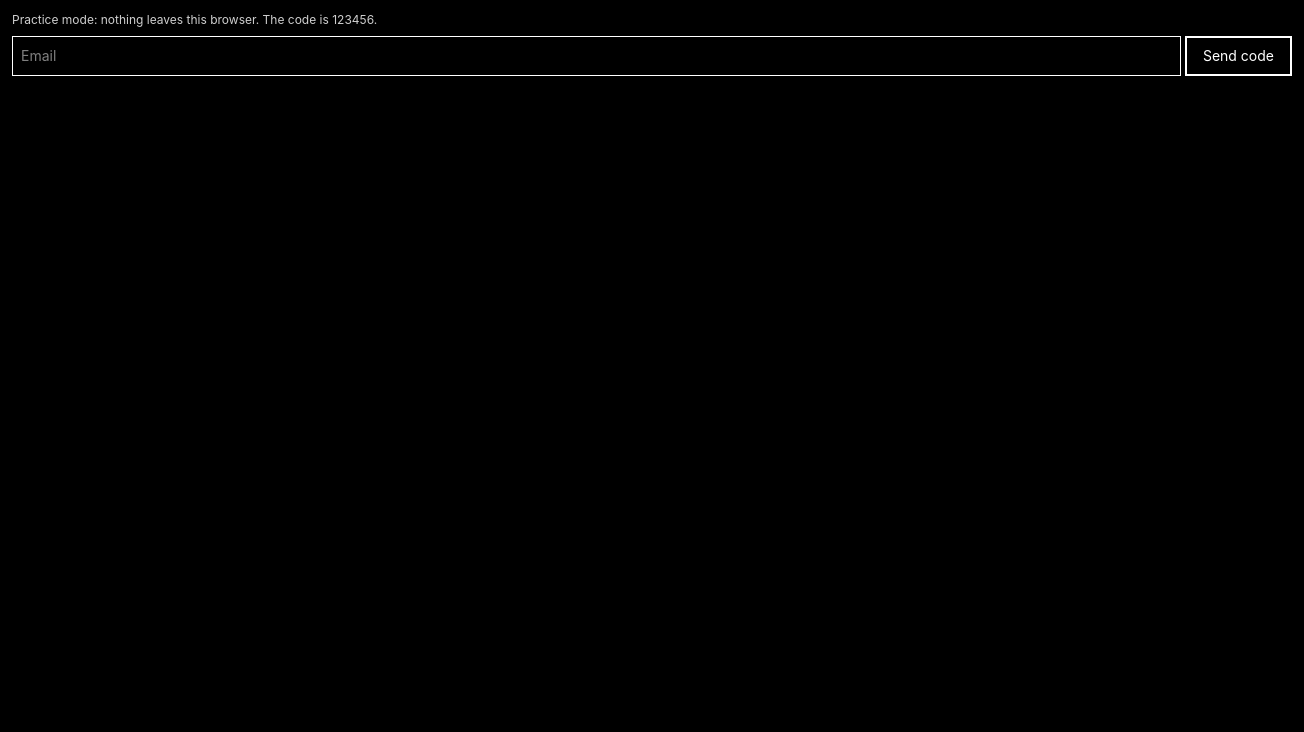
Test: the account panel › when the server is down it says progress is safe, and tries again when asked
Step 1. Type "ren@example.com" into the field labelled "Email" → (596, 56), box [12,36,1181,76]
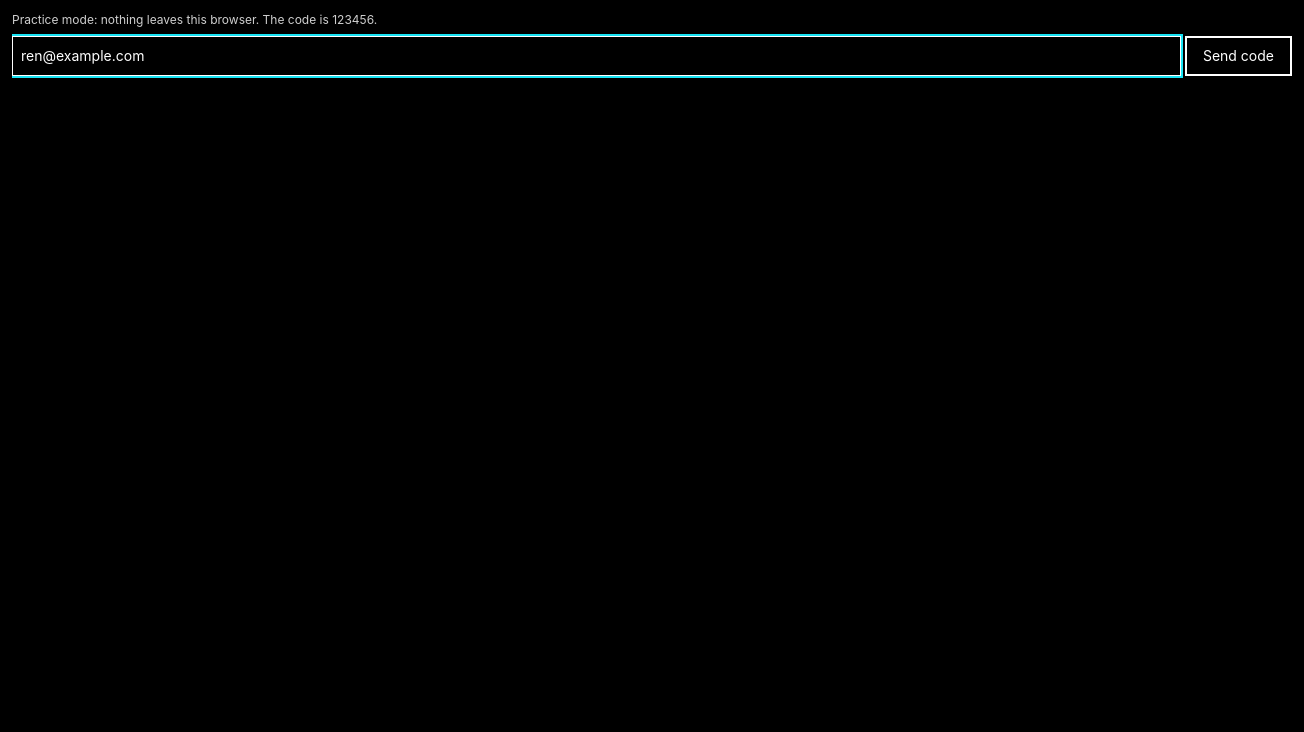
Step 2. Click the button "Send code" → (1238, 56), box [1185,36,1292,76]
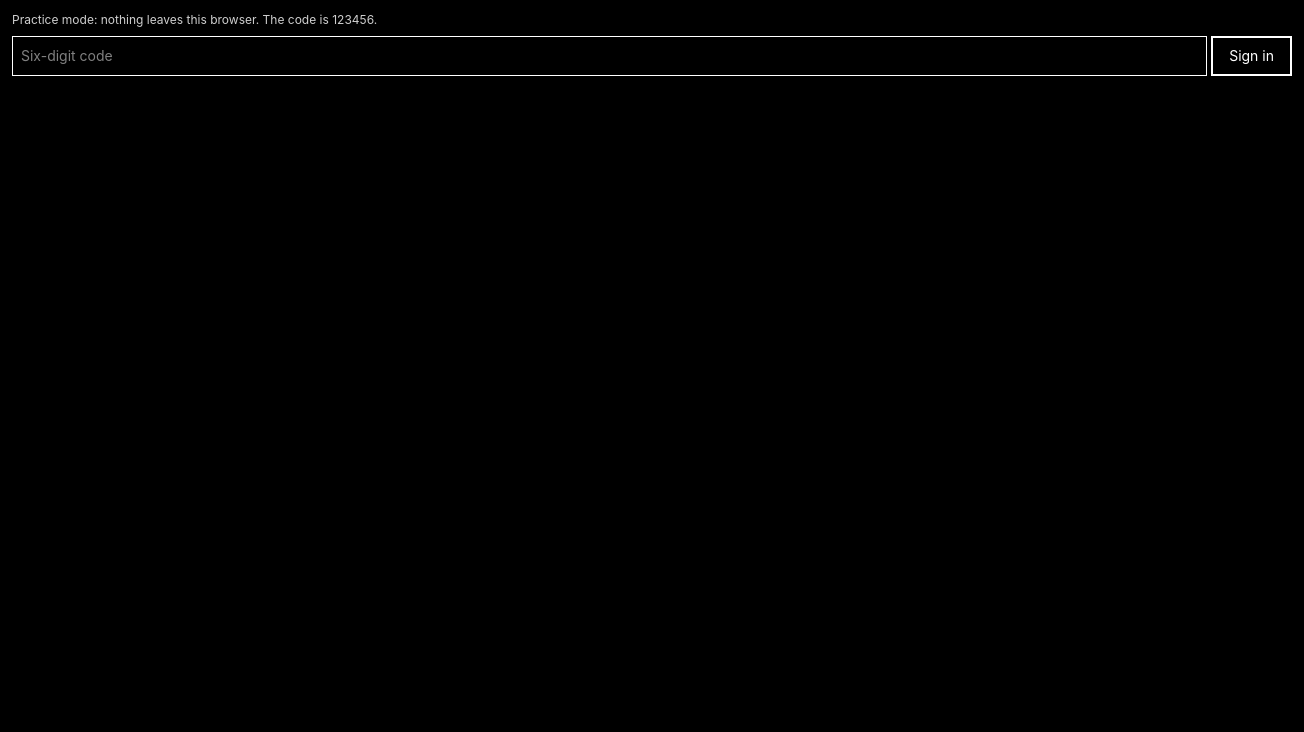
Step 3. Type "123456" into the field labelled "Six-digit code" → (610, 56), box [12,36,1207,76]
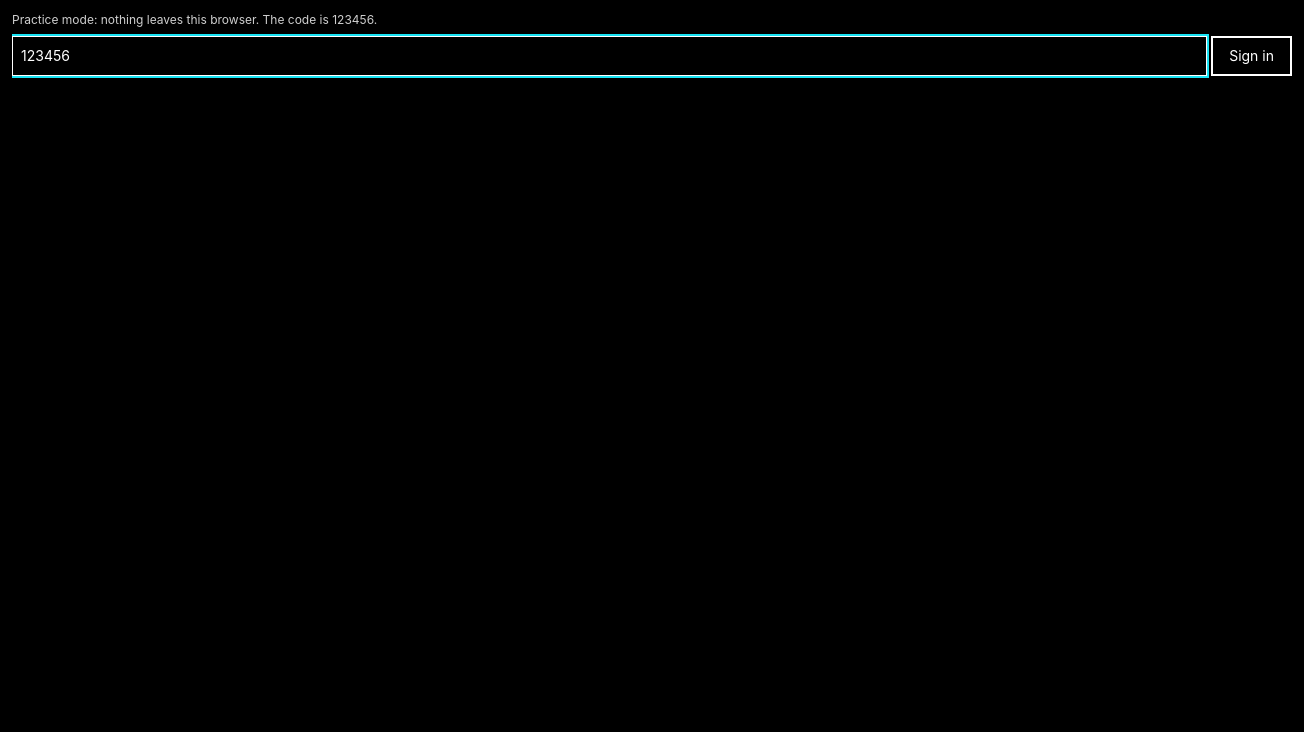
Step 4. Click the button "Sign in" → (1252, 56), box [1211,36,1292,76]
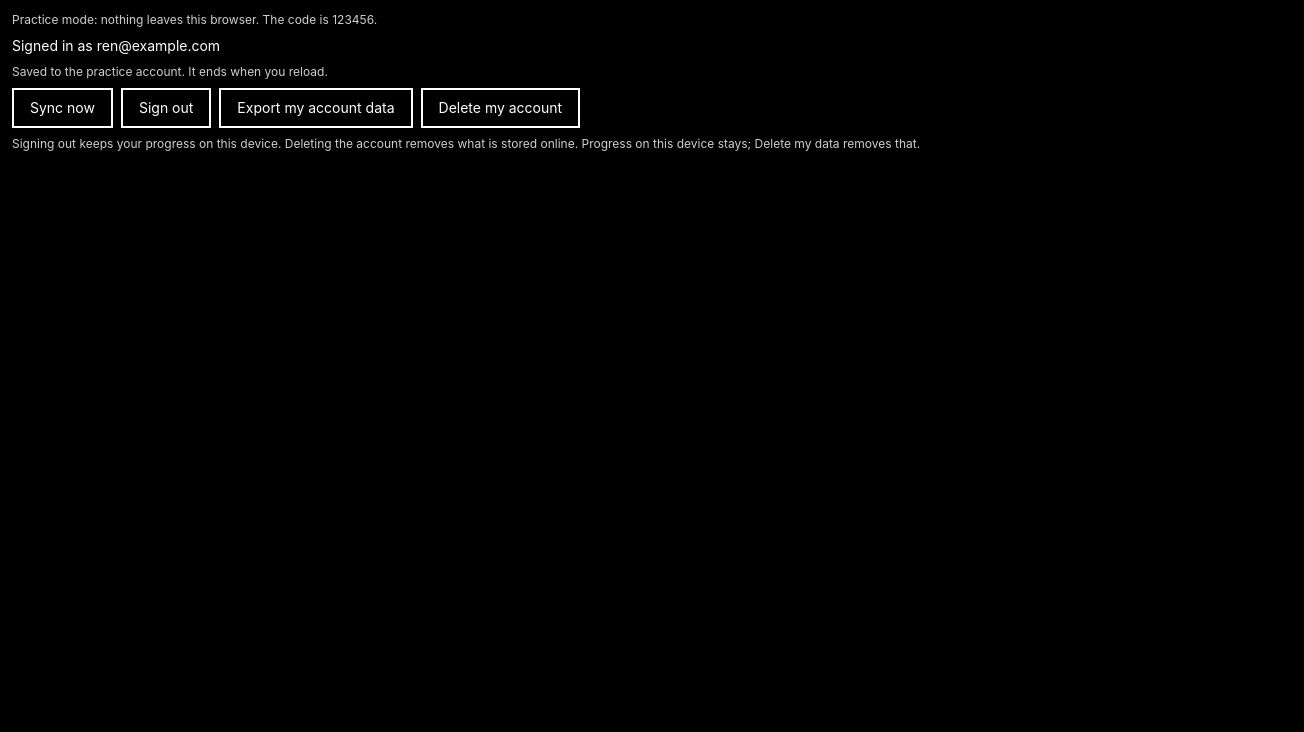
Now the text "Signed in as ren@example.com" is shown, box [12,37,220,54]
Now the message reads "Saved to the practice account. It ends when you reload.", box [12,64,328,79]
Step 5. Click the button "Sync now" → (62, 108), box [12,88,113,128]
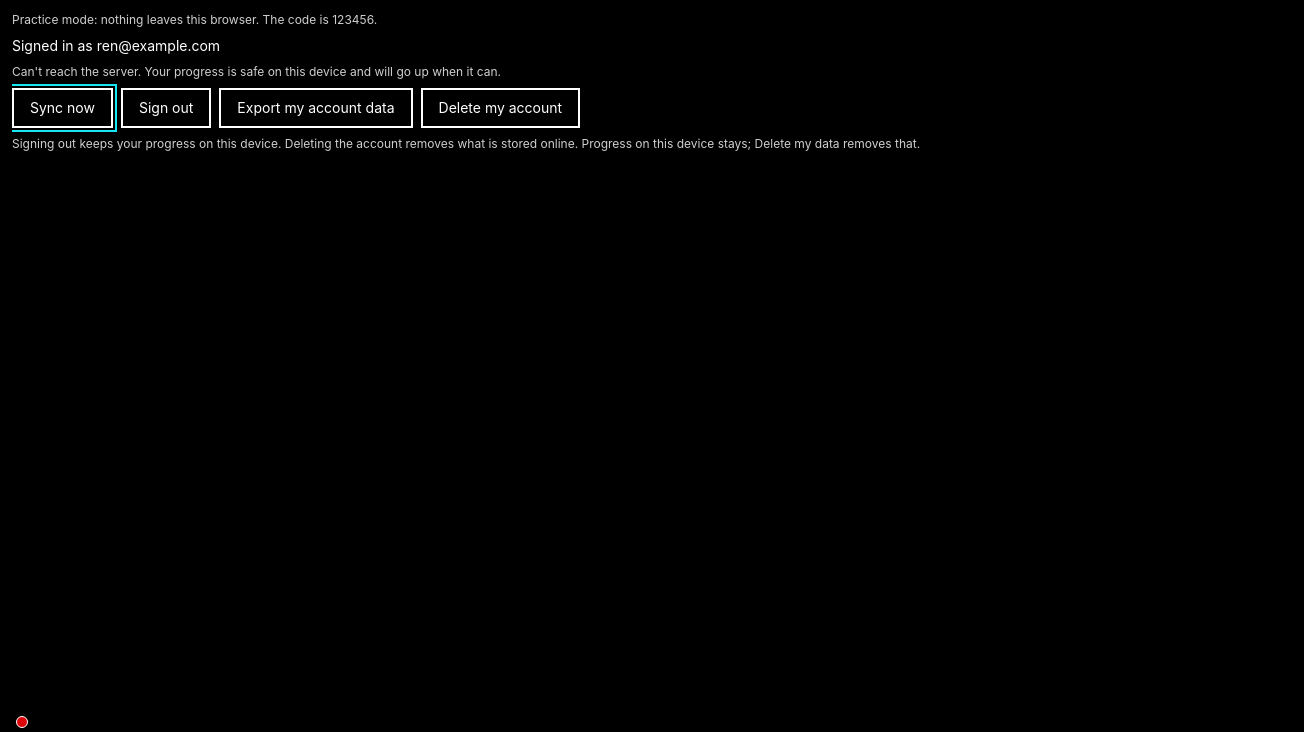
Now the message named "Can't reach the server. Your progress is safe on this device and will go up when it can." is shown, box [16,716,28,728]
Step 6. Click the button "Sync now" → (62, 108), box [12,88,113,128]
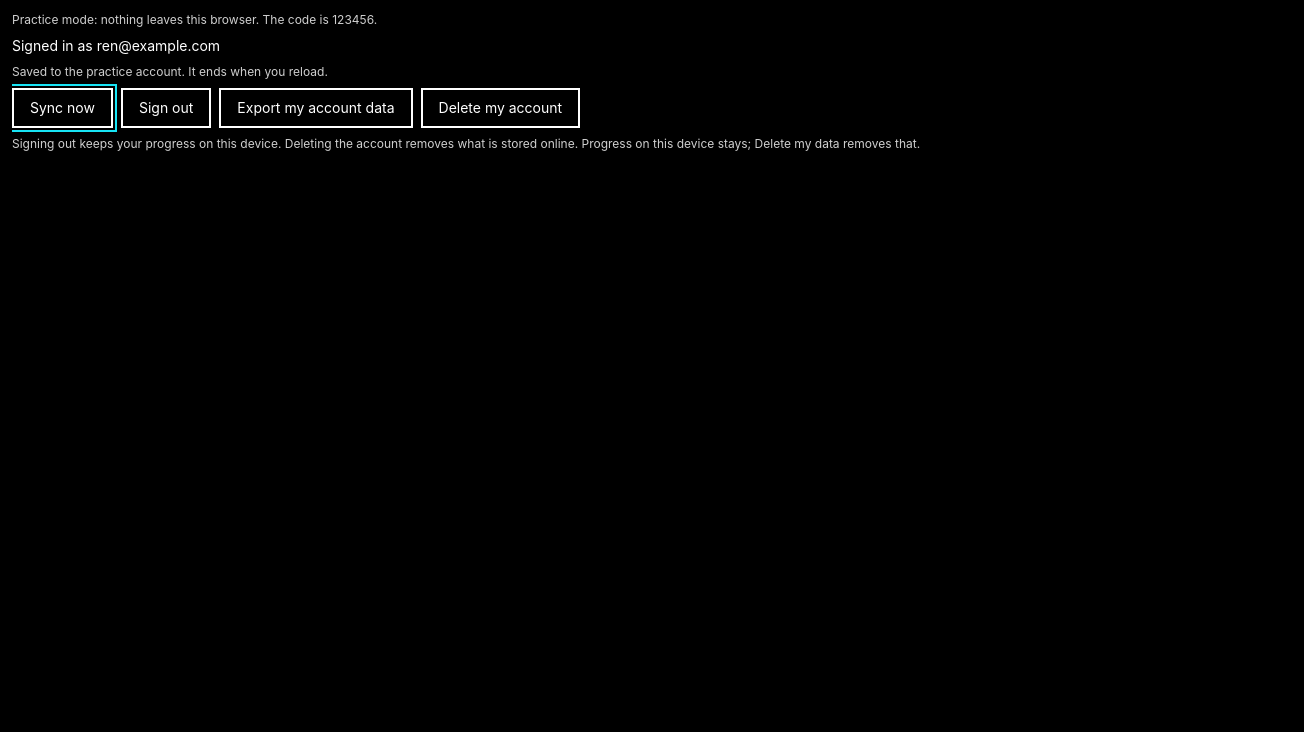
Now the message labelled "Can't reach the server. Your progress is safe on this device and will go up when it can." is gone
